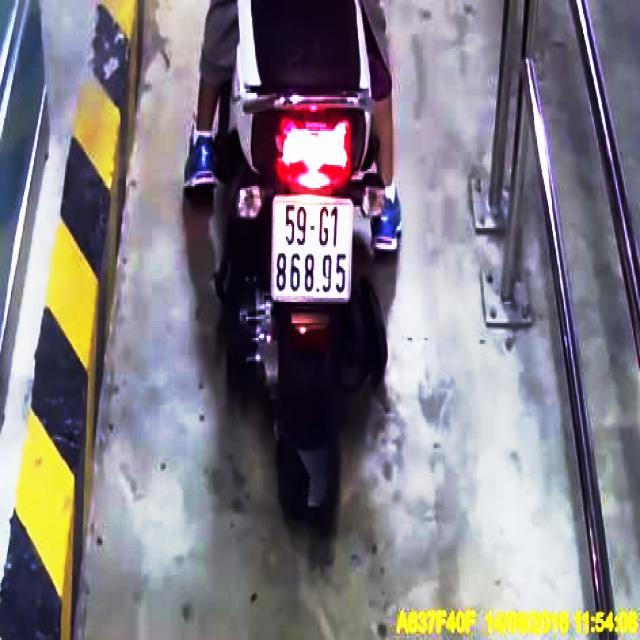license_plate: (271, 198, 357, 301)
